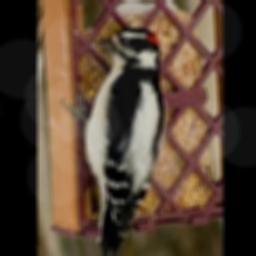Woodpecker: (62, 27, 163, 256)
